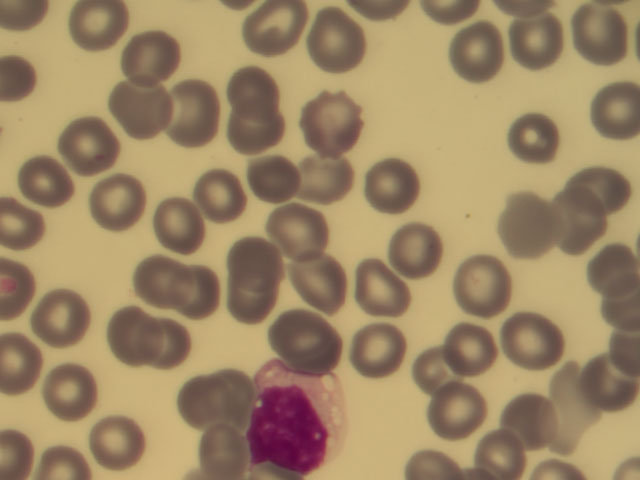RBC: (122, 26, 180, 82), (111, 84, 169, 140), (157, 80, 215, 136), (224, 57, 282, 113), (223, 98, 281, 154), (298, 10, 356, 66), (302, 91, 360, 147), (299, 145, 357, 201), (247, 150, 305, 206), (193, 171, 251, 227), (150, 194, 208, 250), (90, 171, 148, 227), (56, 117, 114, 173), (21, 146, 79, 202), (36, 288, 94, 344), (40, 359, 98, 415), (91, 415, 149, 471), (100, 304, 158, 360), (137, 319, 195, 375), (124, 247, 182, 303), (176, 270, 234, 326), (228, 230, 286, 286), (222, 274, 280, 330), (267, 200, 325, 256), (295, 242, 353, 298), (278, 306, 336, 362), (178, 369, 236, 425), (191, 424, 249, 480), (347, 322, 405, 378), (354, 267, 412, 323), (383, 217, 441, 273), (366, 153, 424, 209), (457, 260, 515, 316), (441, 322, 499, 378), (401, 347, 459, 403), (432, 389, 490, 445), (481, 424, 539, 480), (504, 400, 562, 456), (504, 312, 562, 368), (534, 370, 592, 426), (573, 353, 631, 409), (582, 244, 640, 300), (551, 192, 609, 248), (490, 195, 548, 251), (567, 161, 625, 217), (504, 111, 562, 167), (582, 85, 640, 141), (582, 6, 640, 62), (498, 10, 556, 66), (448, 24, 506, 80), (74, 1, 132, 56), (254, 1, 312, 56)
WBC: (249, 360, 349, 476)
